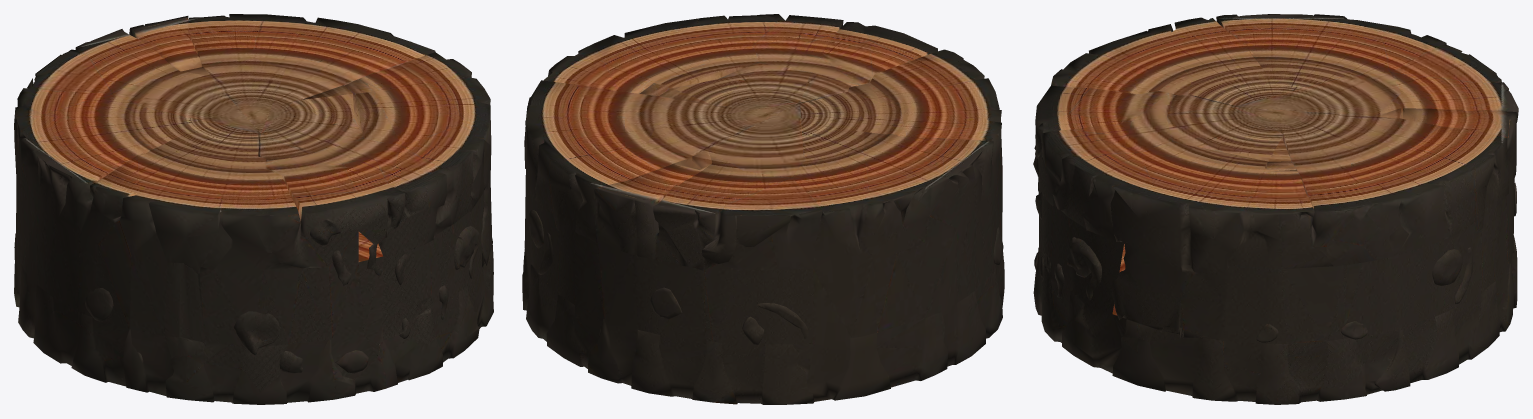
The model's file is chopping_block.glb.
The picture shows the model from 3 angles, left to right: view 1: azimuth 30°, elevation 25°; view 2: azimuth 150°, elevation 25°; view 3: azimuth 270°, elevation 25°; orthographic projection.
Bounding box in the file's own units: 0.957 × 0.4179 × 0.96.
1 material, 1 textured.
